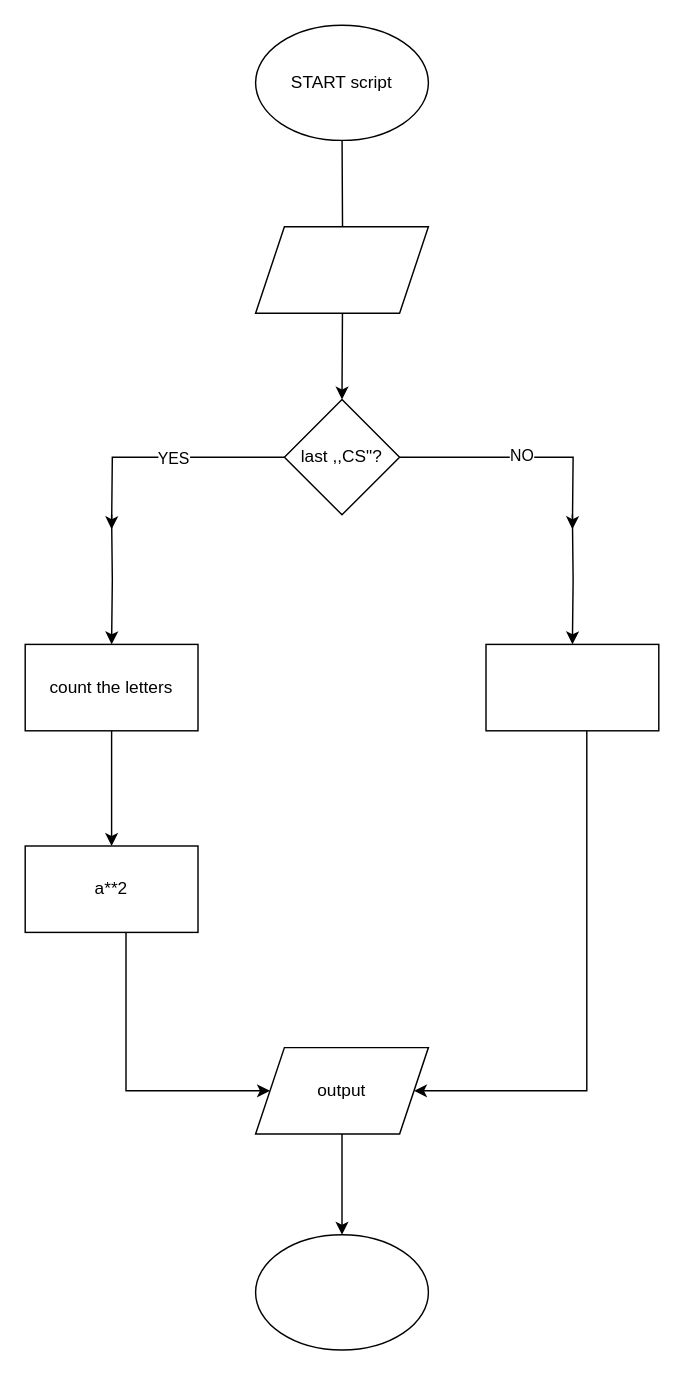
Some shapes in this 684 by 1375 pixel diagram are drawn without their labels. Here are the shapes that lost their labels. From the top down, the centre of each, then its label:
(341,269): input word
(572,687): reverse the word
(341,1291): END script
